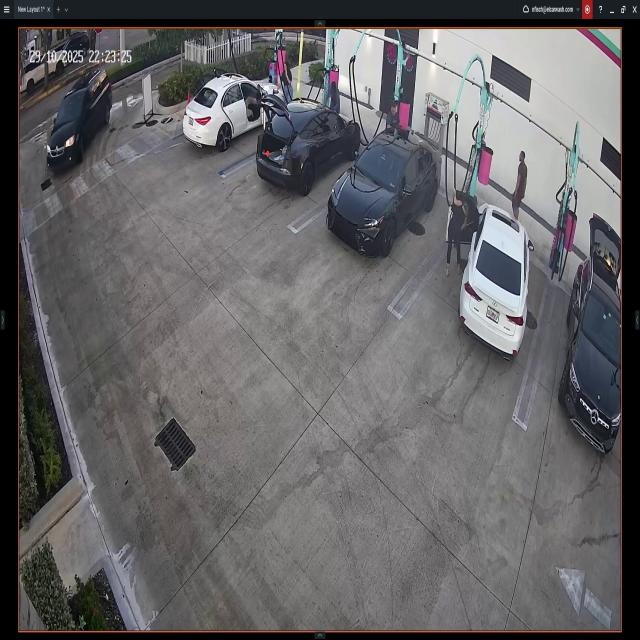Car: (329, 126, 441, 264), (561, 219, 620, 452), (451, 193, 532, 359), (258, 91, 360, 184), (182, 74, 286, 147), (44, 67, 112, 174)
